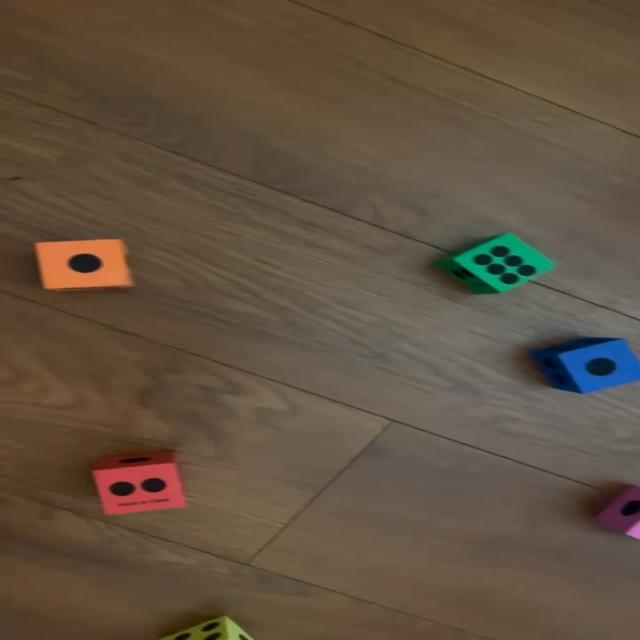blue_block: (531, 336, 640, 395)
red_block: (92, 452, 189, 516)
